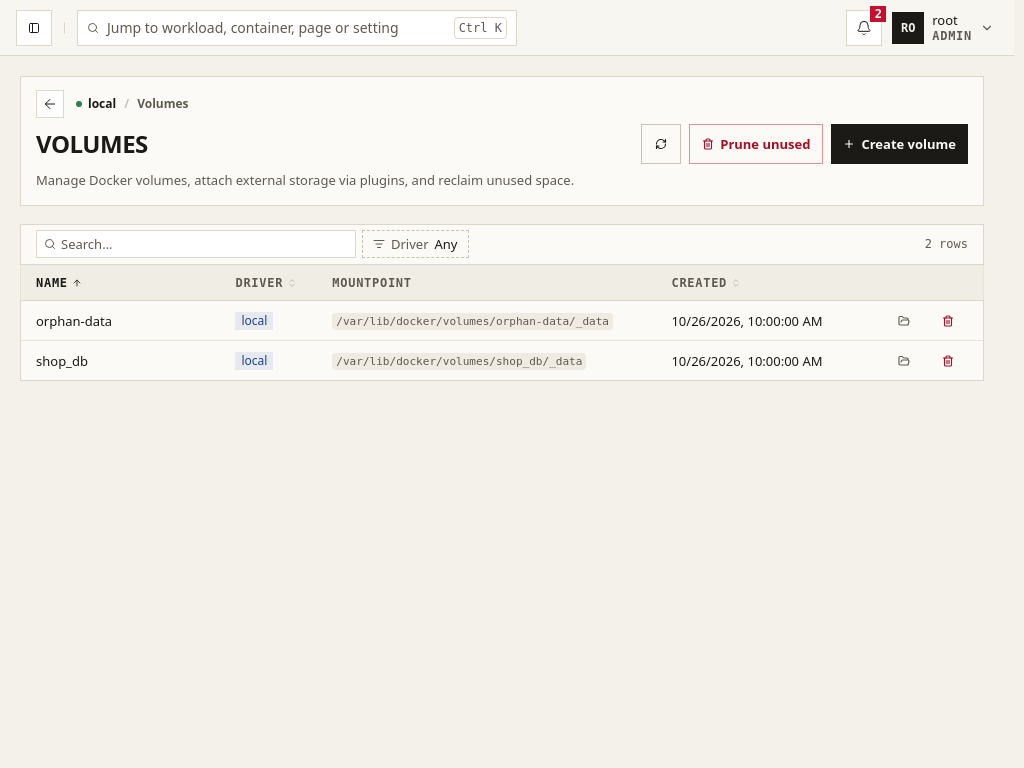
Test: volumes page › creates a local volume with labels
The width and height of the screenshot is (1024, 768).
Step 1. Click the button "Create volume" → click(900, 144), box [831,124,968,164]
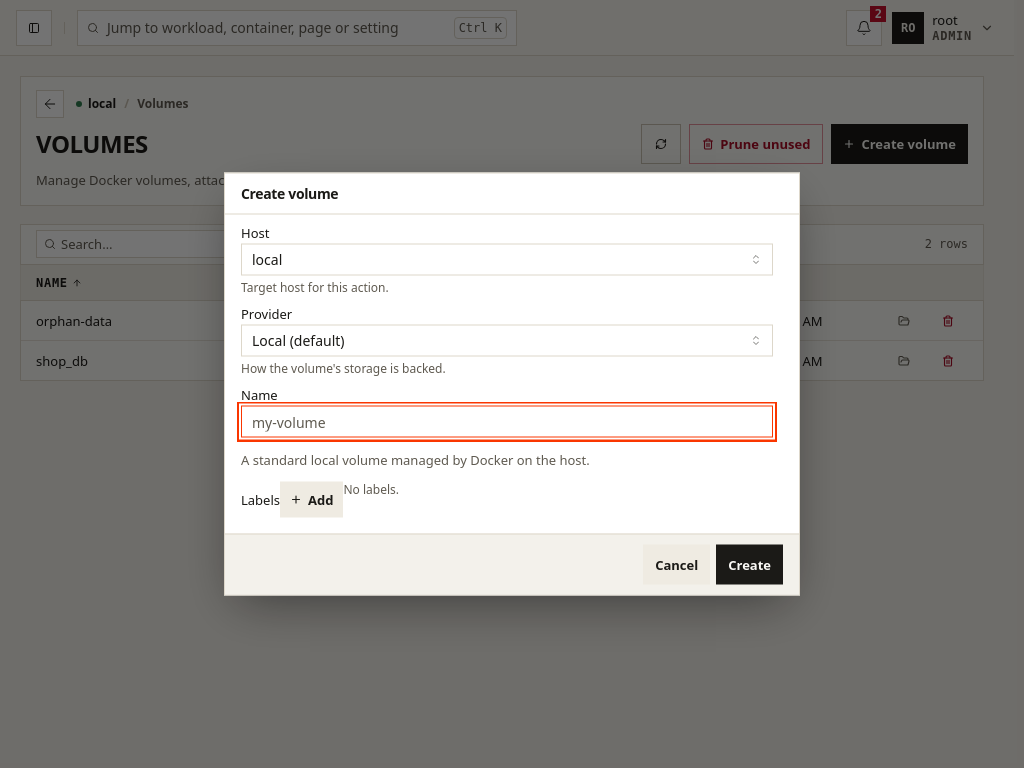
Step 2. Type "cache" into the field labelled "Name" → (507, 422), box [241,406,773,438]
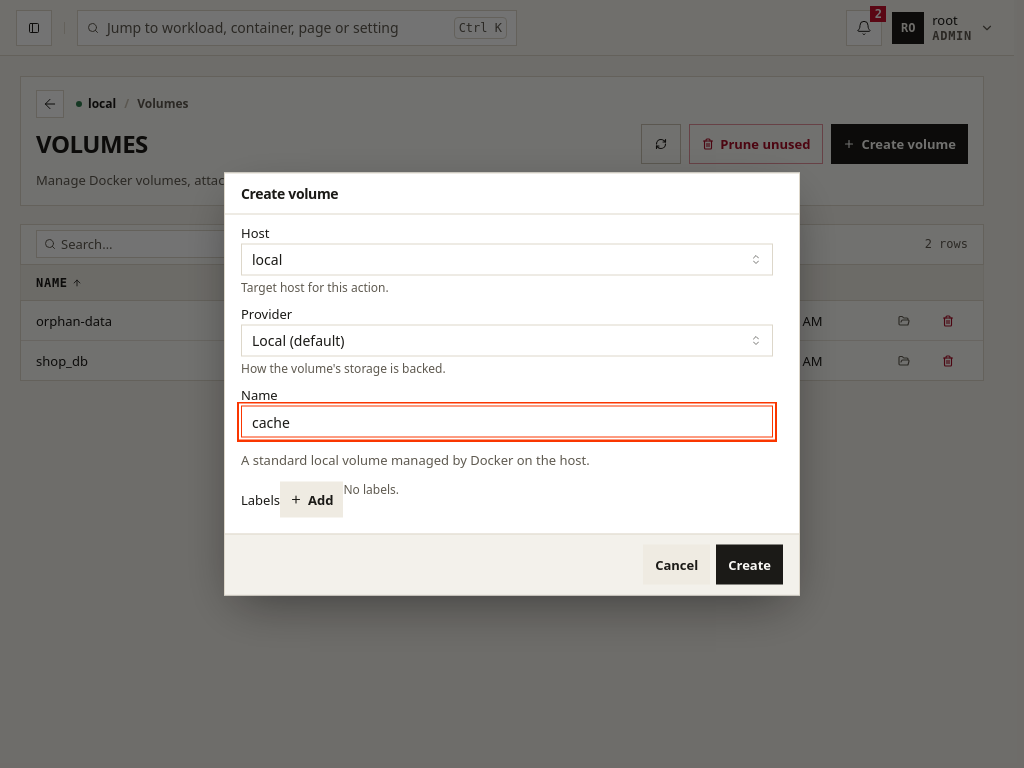
Step 3. Click the button "Create" → click(750, 564), box [716,544,783,584]
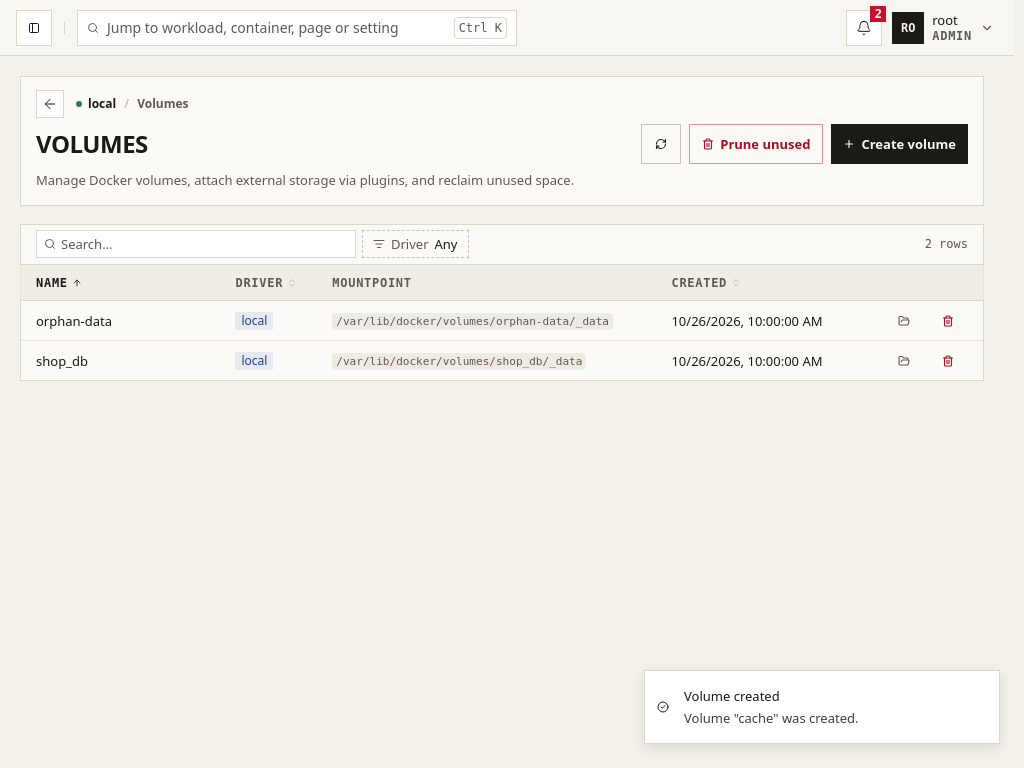
expect the text "Volume created" is shown: met, box [684,687,780,705]
